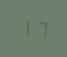one: (19, 20, 32, 37)
seven: (33, 20, 46, 37)
